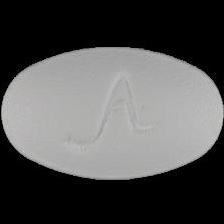0603-5764: (0, 0, 224, 224)
